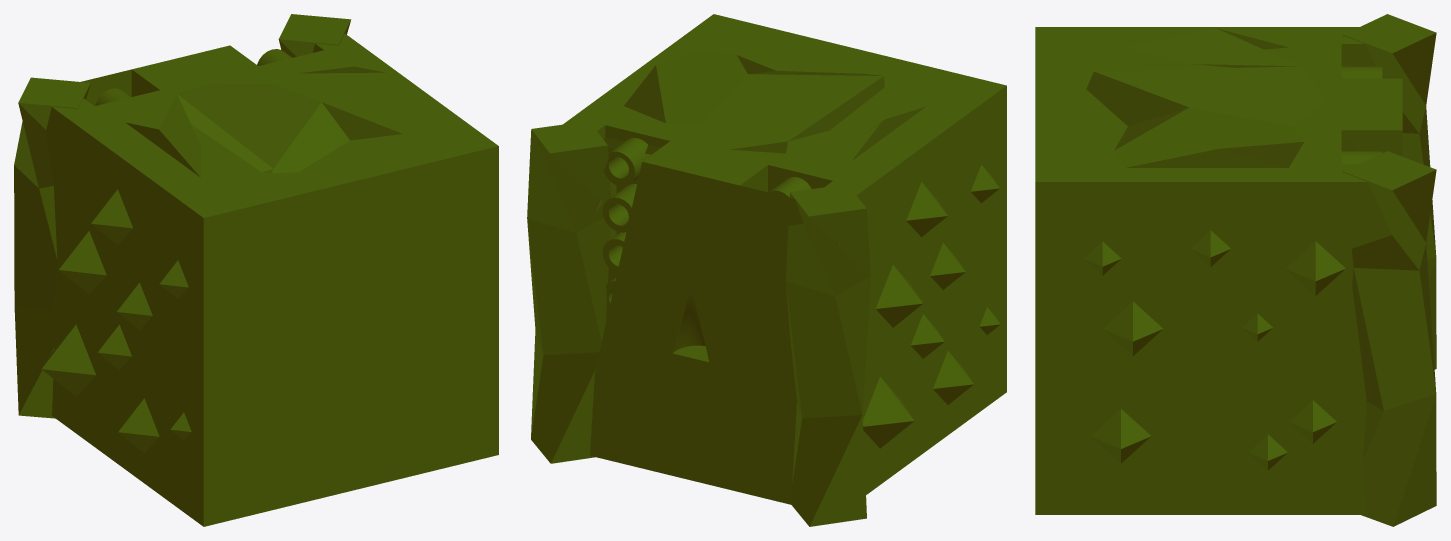
Rendered from NOMOON_OBJ_DARTTRAP_001.fbx.
The picture shows the model from 3 angles, left to right: view 1: azimuth 30°, elevation 25°; view 2: azimuth 150°, elevation 25°; view 3: azimuth 270°, elevation 25°; orthographic projection. The views are drawn at different scales.
Parts seen in each view (by area): view 1: pointLight3; view 2: pointLight3; view 3: pointLight3.
Boxes of the visible parts, <box> form: pointLight3: <box>14,14,498,526</box>; pointLight3: <box>527,14,1006,526</box>; pointLight3: <box>1035,14,1436,526</box>.
Size of the model in its own units: 1.2 by 1.07 by 1.09.
